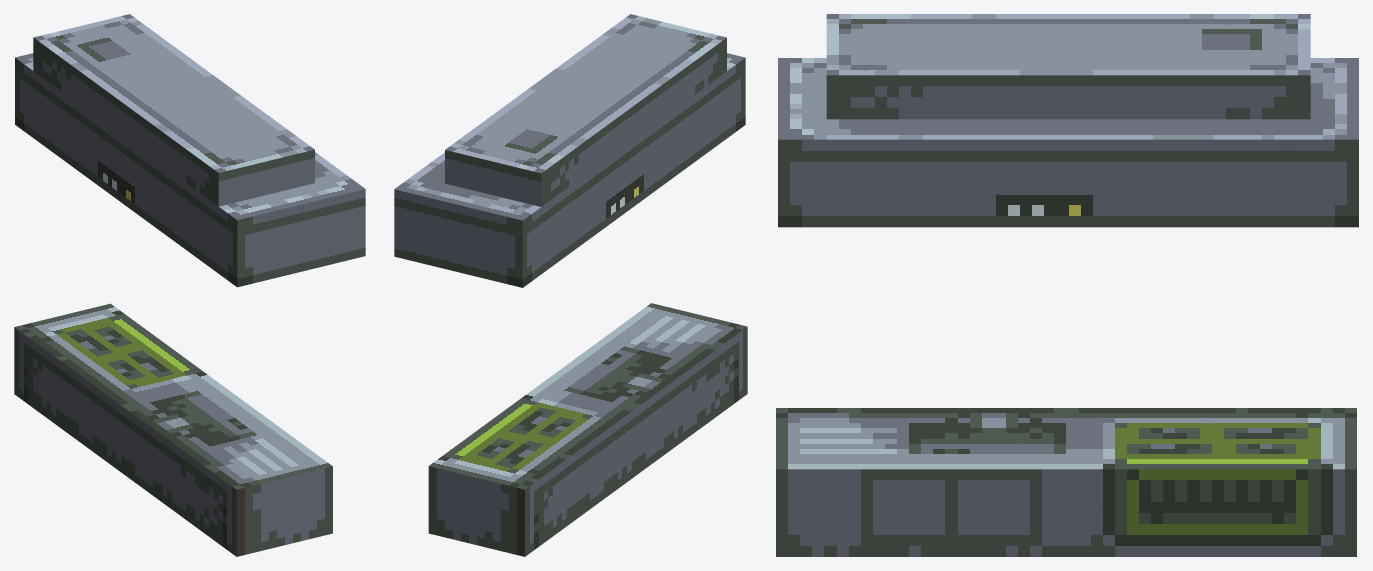
File: kitchen.glb
The picture shows the model from 3 angles, left to right: view 1: azimuth 30°, elevation 25°; view 2: azimuth 150°, elevation 25°; view 3: azimuth 270°, elevation 25°; orthographic projection. The views are drawn at different scales.
Visible parts, largest first — view 1: Kitchen; view 2: Kitchen; view 3: Kitchen.
Boxes of the visible parts, x1,y1,x2,y2 form: Kitchen: (14,14,365,556); Kitchen: (394,14,747,556); Kitchen: (776,14,1358,556).
Size of the model in its own units: 1.01 by 2.75 by 3.01.
Materials: 1 (1 with a texture image).
